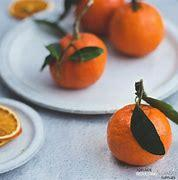orange: (45, 24, 112, 89), (101, 104, 173, 159), (111, 1, 167, 64)
